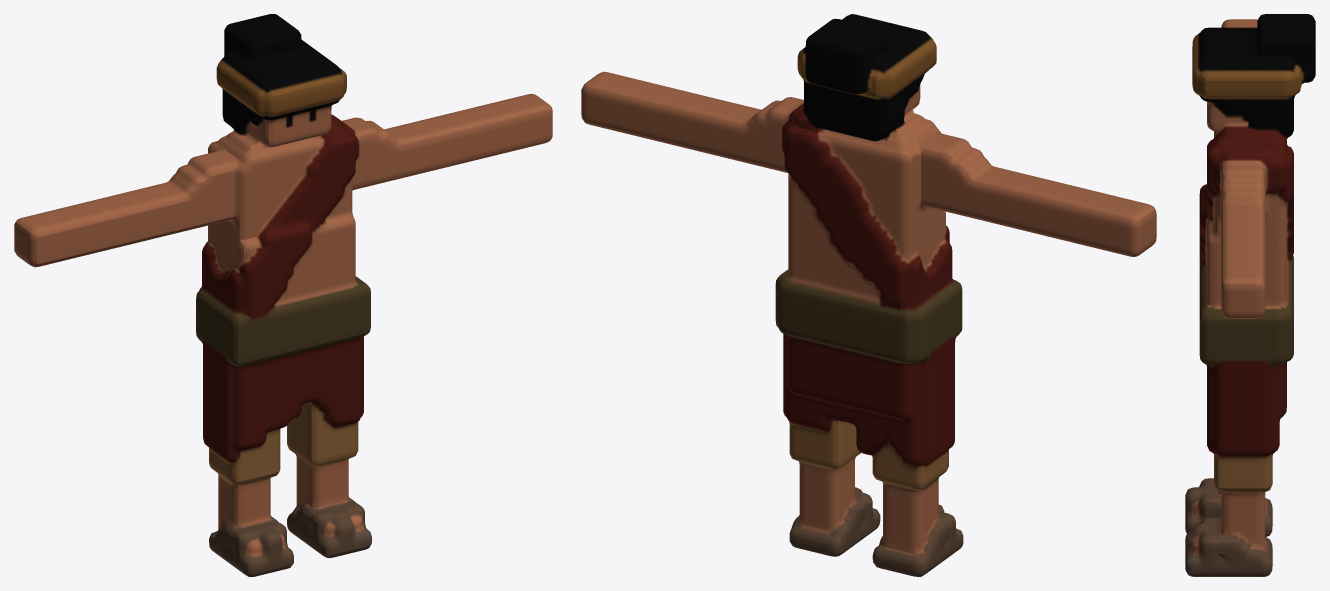
Rendered from normies3_enemy.fbx.
3 renders of one model, left to right at view 1: azimuth 30°, elevation 25°; view 2: azimuth 150°, elevation 25°; view 3: azimuth 270°, elevation 25°, orthographic. The views are drawn at different scales.
Parts seen in each view (by area): view 1: Object; view 2: Object; view 3: Object.
Part boxes in pixels (x1,y1,x2,y2): Object: (14,14,552,576); Object: (581,14,1156,576); Object: (1185,14,1315,576).
Size of the model in its own units: 4100 by 3771 by 853.
Materials: 1 (1 with a texture image).
